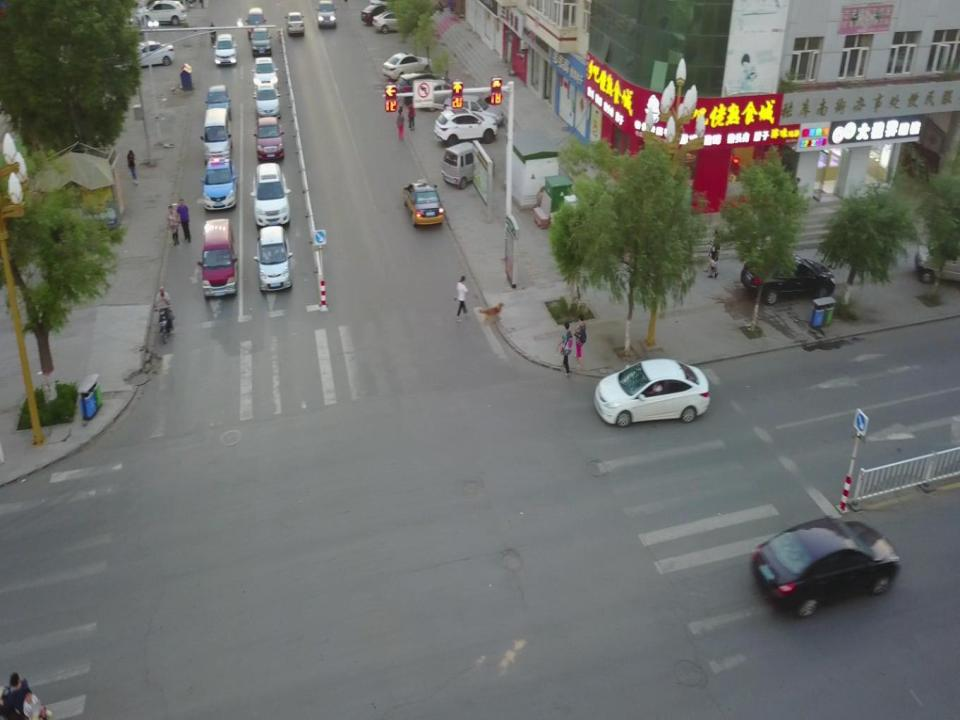car: (751, 520, 900, 616), (595, 358, 709, 426), (742, 255, 837, 305), (247, 164, 290, 224), (435, 106, 499, 146), (403, 180, 444, 228), (442, 96, 505, 126), (198, 158, 240, 202), (115, 42, 174, 72), (399, 74, 454, 102), (384, 52, 434, 80), (136, 2, 187, 28), (254, 119, 285, 156), (253, 82, 282, 118), (252, 57, 282, 88), (206, 83, 230, 119), (359, 3, 394, 22), (216, 33, 234, 66), (252, 29, 272, 58), (374, 12, 403, 32), (316, 3, 336, 26), (286, 9, 305, 33), (247, 8, 265, 32)
van: (200, 221, 237, 298), (257, 227, 293, 292), (915, 238, 960, 286), (444, 143, 486, 187), (202, 107, 232, 163)
